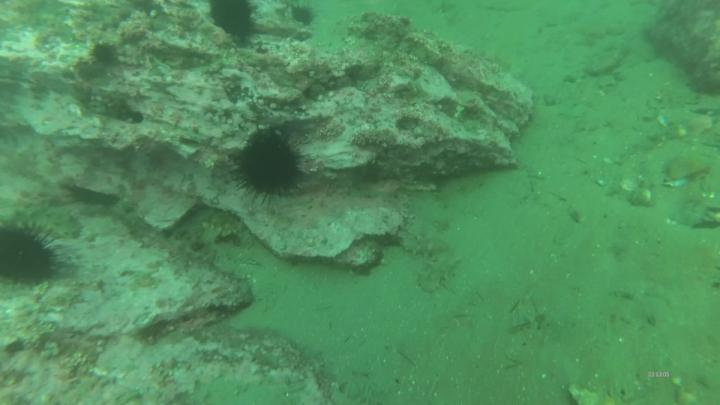echinus: (229, 126, 313, 207), (1, 220, 74, 285), (206, 2, 263, 49), (285, 2, 321, 29)
holothurian: (191, 207, 258, 258), (415, 245, 468, 296), (397, 226, 457, 263)
